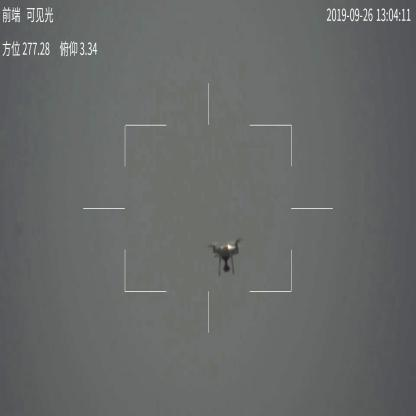uav: (204, 237, 247, 276)
